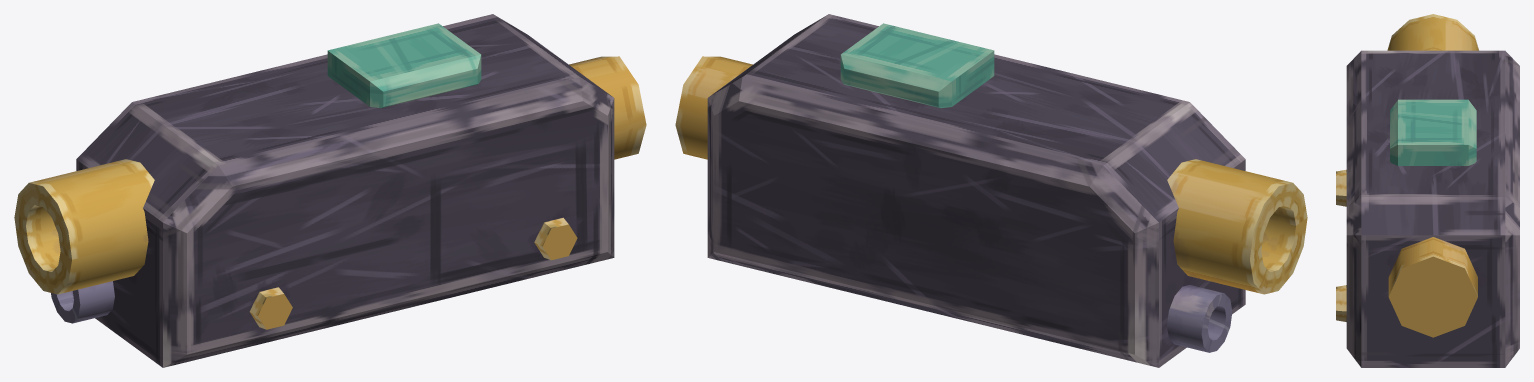
The model's file is att_laser.fbx.
3 renders of one model, left to right at view 1: azimuth 30°, elevation 25°; view 2: azimuth 150°, elevation 25°; view 3: azimuth 270°, elevation 25°, orthographic. The views are drawn at different scales.
Visible parts, largest first — view 1: att_laser; view 2: att_laser; view 3: att_laser.
Boxes of the visible parts, <box> form: att_laser: <box>14,14,646,367</box>; att_laser: <box>675,14,1307,367</box>; att_laser: <box>1336,14,1519,367</box>.
Bounding box in the file's own units: 0.3113 × 0.1106 × 0.1035.
Materials: 1 (1 with a texture image).
